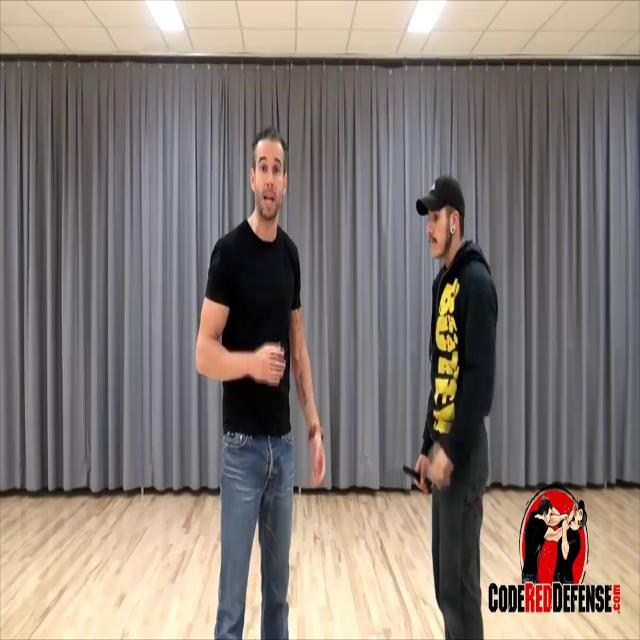Knife_Handle: (402, 454, 433, 494)
